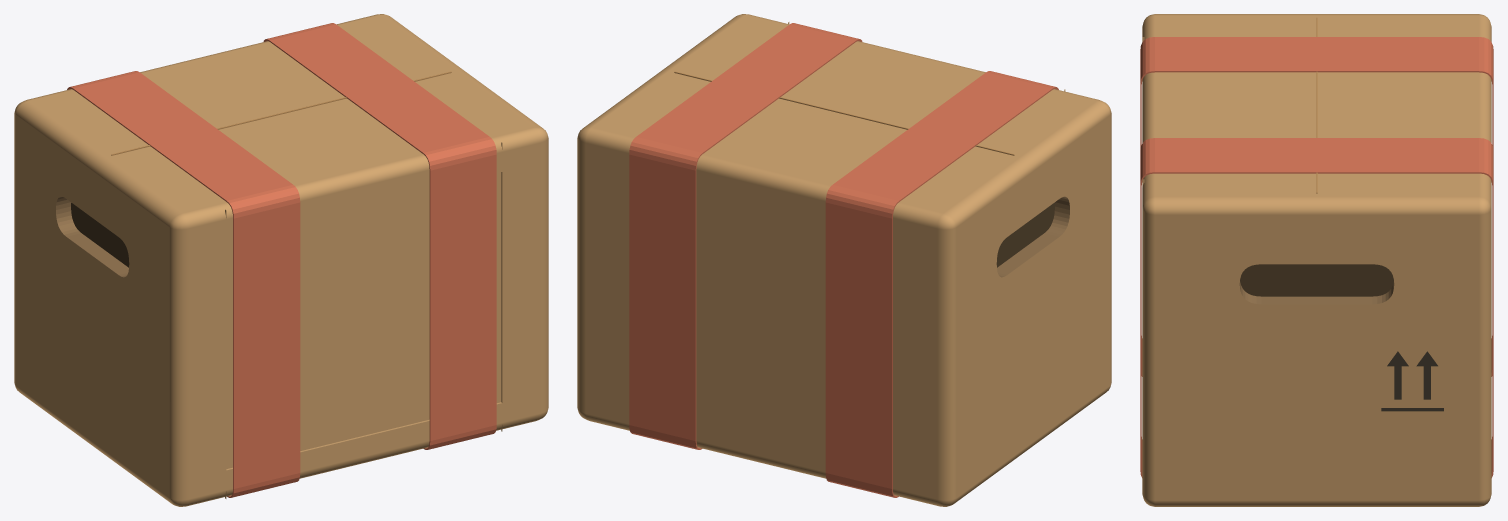
File: play-parcel-large-coral.glb
3 renders of one model, left to right at view 1: azimuth 30°, elevation 25°; view 2: azimuth 150°, elevation 25°; view 3: azimuth 270°, elevation 25°, orthographic. The views are drawn at different scales.
Parts seen in each view (by area): view 1: Parcel_Carton, Parcel_Tape_Parallel_2, Parcel_Tape_Parallel_1, Parcel_Carry_Slot_Walls_Negative_X, Parcel_Carry_Slot_Interior_Negative_X; view 2: Parcel_Carton, Parcel_Tape_Parallel_2, Parcel_Tape_Parallel_1, Parcel_Carry_Slot_Walls_Negative_X, Parcel_Carry_Slot_Interior_Negative_X; view 3: Parcel_Carton, Parcel_Tape_Parallel_2, Parcel_Tape_Parallel_1, Parcel_Carry_Slot_Interior_Positive_X, Parcel_Carry_Slot_Walls_Positive_X, Parcel_Up_Arrows_Positive_X.
Part boxes in pixels (<box>): Parcel_Carton: <box>14,14,548,506</box>; Parcel_Tape_Parallel_2: <box>263,23,496,449</box>; Parcel_Tape_Parallel_1: <box>67,71,300,497</box>; Parcel_Carry_Slot_Walls_Negative_X: <box>56,196,128,277</box>; Parcel_Carry_Slot_Interior_Negative_X: <box>71,203,129,267</box>; Parcel_Carton: <box>577,14,1111,506</box>; Parcel_Tape_Parallel_2: <box>629,23,862,449</box>; Parcel_Tape_Parallel_1: <box>825,71,1058,497</box>; Parcel_Carry_Slot_Walls_Negative_X: <box>997,196,1069,277</box>; Parcel_Carry_Slot_Interior_Negative_X: <box>996,203,1054,267</box>; Parcel_Carton: <box>1142,14,1491,506</box>; Parcel_Tape_Parallel_2: <box>1140,138,1493,477</box>; Parcel_Tape_Parallel_1: <box>1140,37,1493,376</box>; Parcel_Carry_Slot_Interior_Positive_X: <box>1240,264,1393,296</box>; Parcel_Carry_Slot_Walls_Positive_X: <box>1239,282,1394,304</box>; Parcel_Up_Arrows_Positive_X: <box>1381,351,1443,411</box>.
Bounding box in the file's own units: 0.2503 × 0.187 × 0.192.
